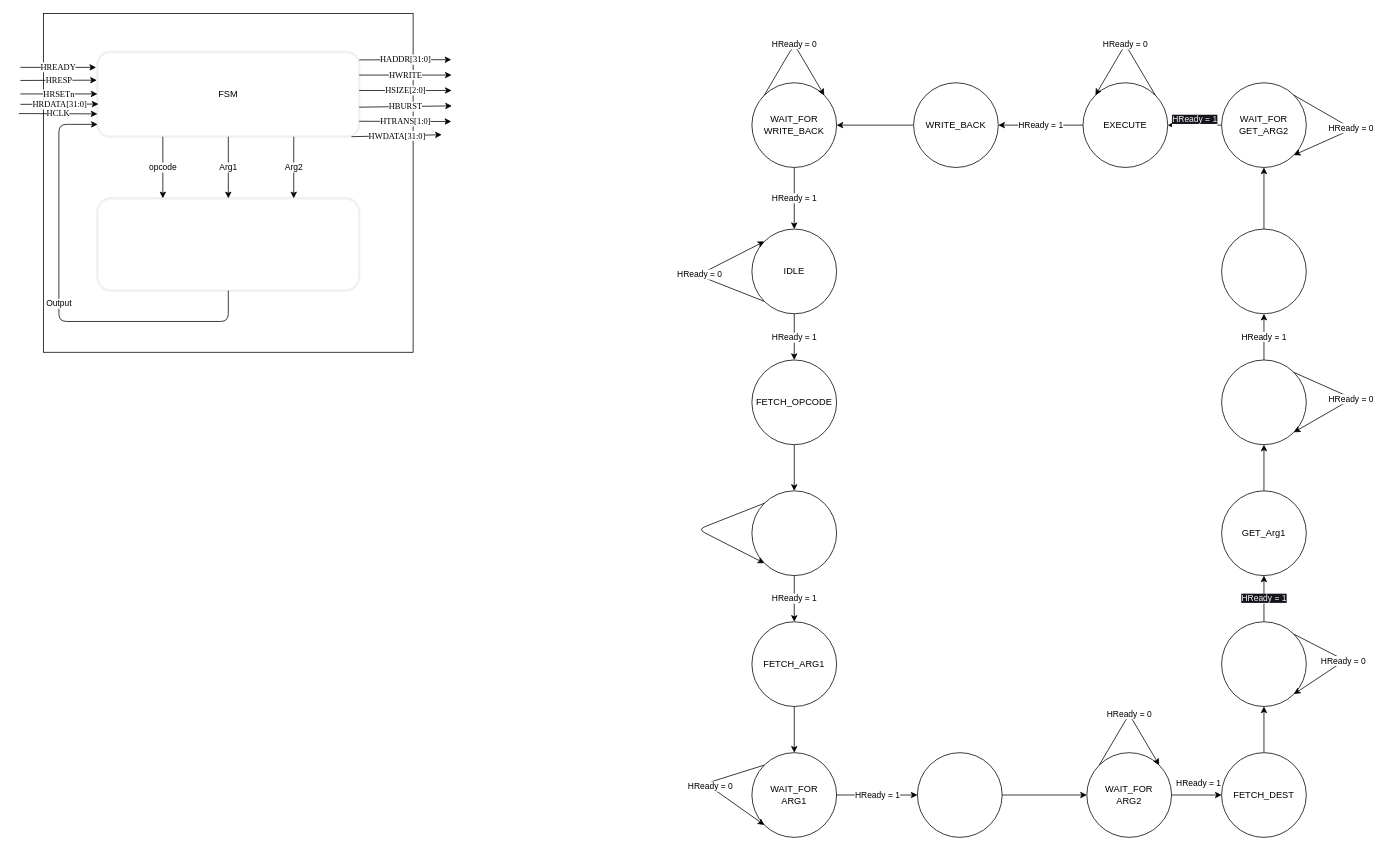
The diagram is 1387 pixels wide and 851 high, and some of its shapes have lost their labels. The centre of each missing label's shape, as x and y in pixels:
"ALU" goes at point (228, 244).
"FETCH_ARG2" goes at point (959, 794).
"GET_Arg2" goes at point (1263, 271).
"WAIT_FOR DEST" goes at point (1263, 663).
"WAIT_FOR GET_ARG1" goes at point (1263, 402).
"WAIT_FOR OPCODE" goes at point (794, 533).
